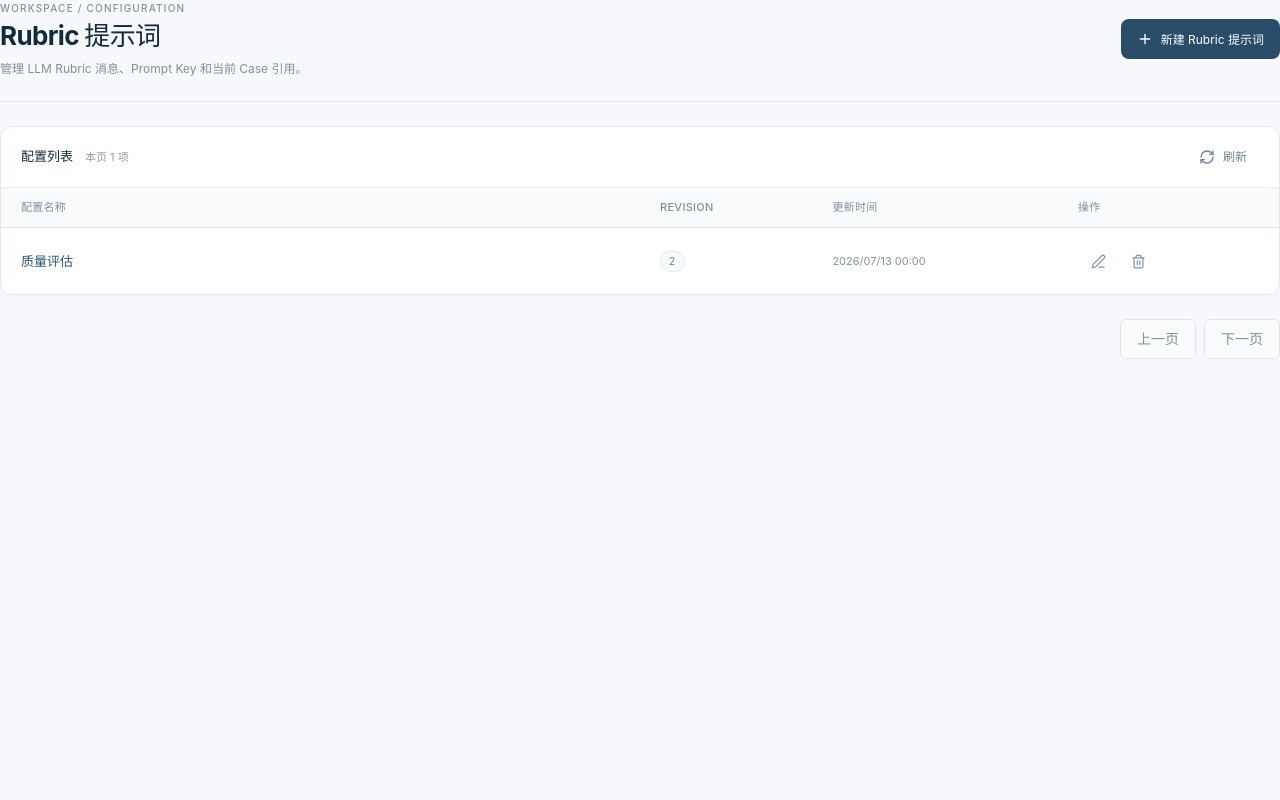
Test: 配置资源页面 › Rubric 删除引用读取失败后可在原确认框重试
The width and height of the screenshot is (1280, 800).
Click the button named "删除 质量评估" at x=1138, y=261, box [1119,245,1158,277]
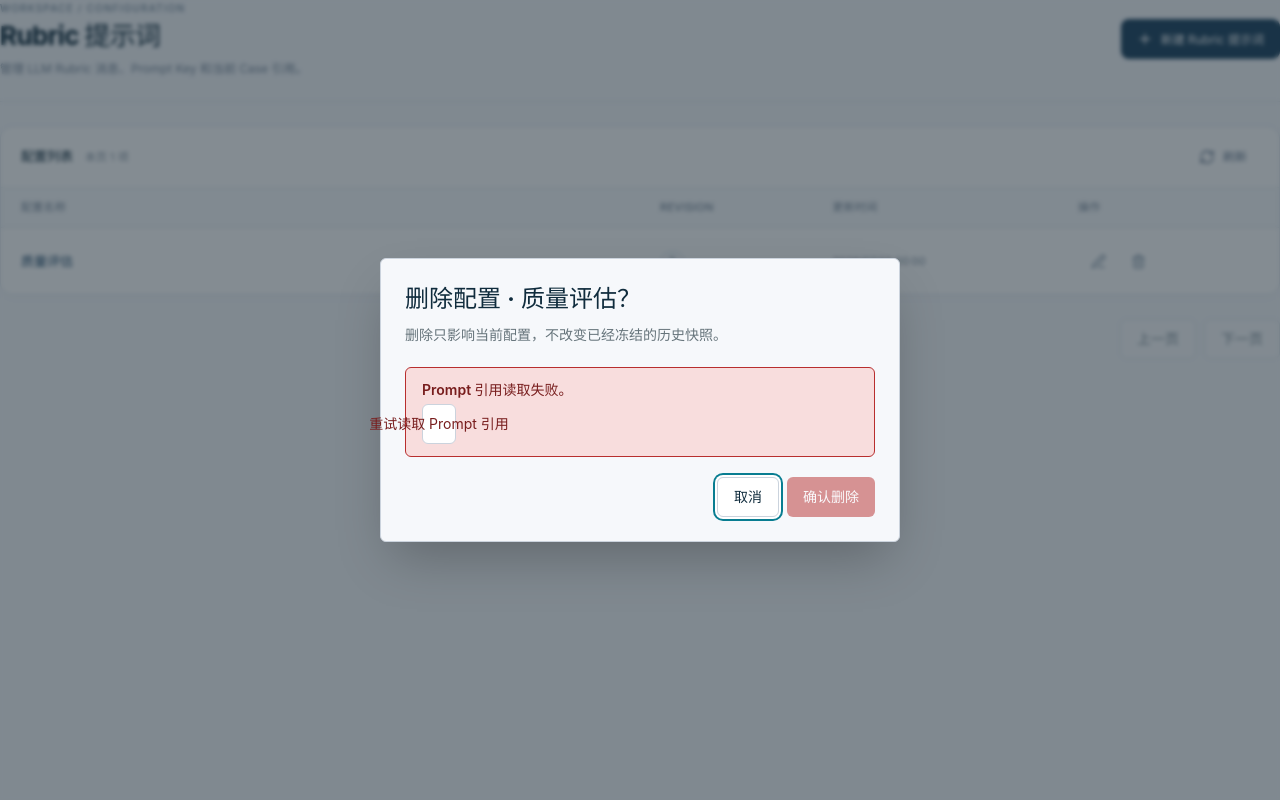
Now the text "Prompt 引用读取失败。" is shown, box [422,381,573,398]
Now the button "确认删除" is disabled, box [787,477,875,517]
Click the button "重试读取 Prompt 引用" at x=439, y=424, box [422,404,456,444]
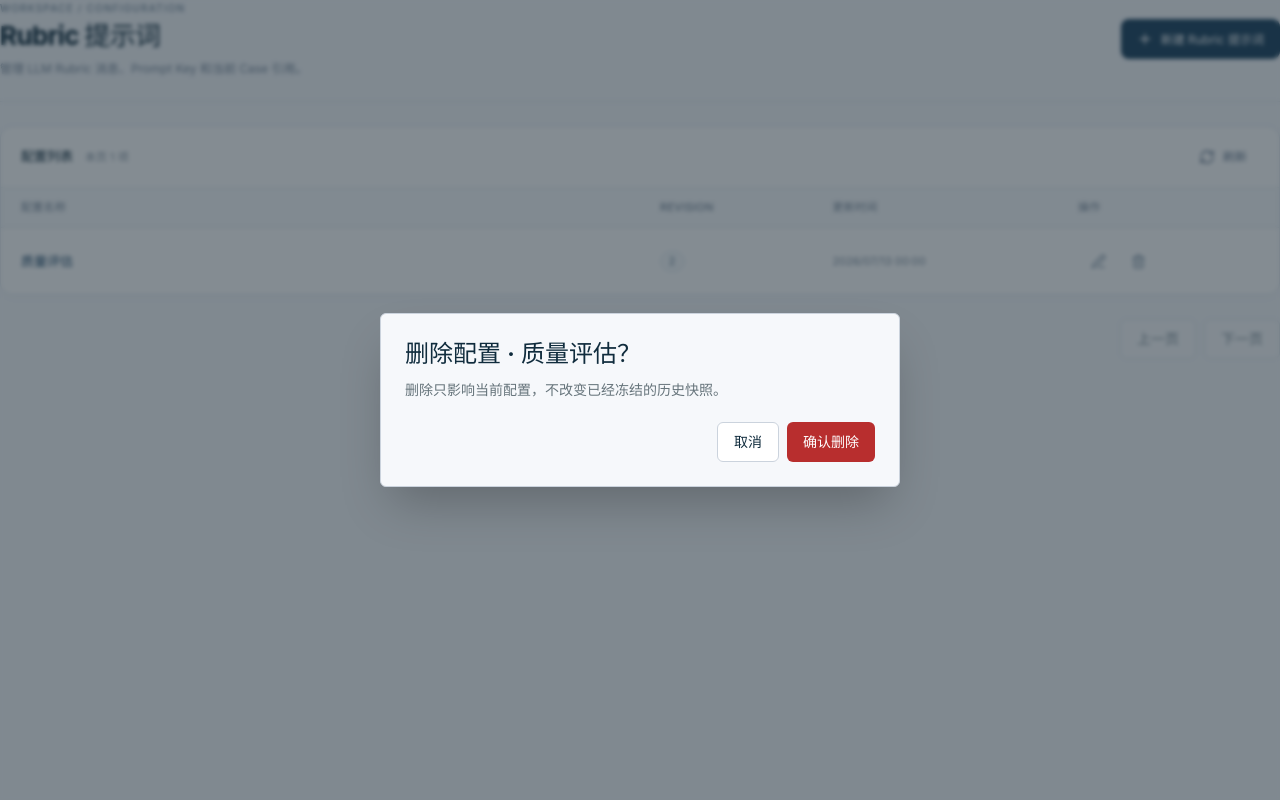
Now the button "确认删除" is enabled, box [787,422,875,462]
